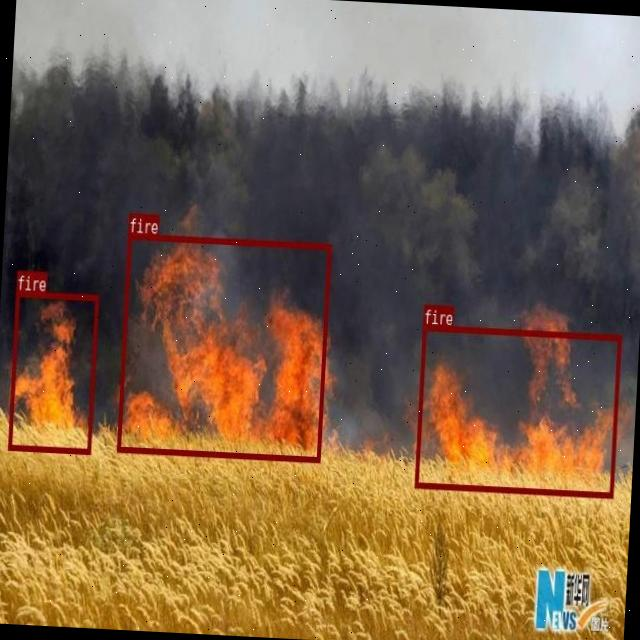fire: (117, 234, 331, 462), (414, 324, 620, 498), (8, 290, 98, 453)
